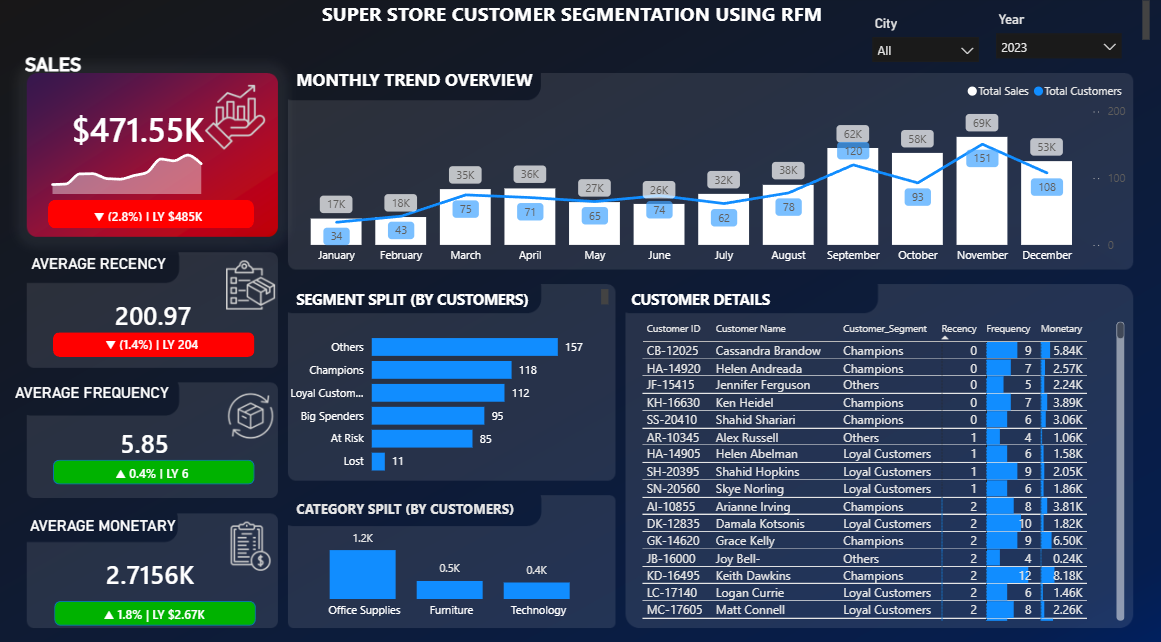

What the dashboard file says about the page in this screenshot:
{"tool":"powerbi","page":{"name":"Page 1","canvas":[1280,720],"ordinal":0},"visuals":[{"type":"shape","box":[60,510,221.4,27.1],"z":0},{"type":"shape","box":[60,370,221.4,27.1],"z":1000},{"type":"shape","box":[54.9,223.7,226.4,31.6],"z":2000},{"type":"textbox","box":[0,0,1270.7,54.9],"z":3000},{"type":"cardVisual","title":"SALES","fields":{"Data":["TBL_MEASURES.Total Sales"]},"box":[24.3,62.9,258.6,127.1],"z":4000},{"type":"cardVisual","title":"AVERAGE RECENCY","fields":{"Data":["TBL_MEASURES.AvgRecency"]},"box":[31.4,284.3,278.6,98.6],"z":5000},{"type":"cardVisual","title":"AVERAGE FREQUENCY","fields":{"Data":["TBL_MEASURES.AvgFrequency"]},"box":[14.3,425.7,295.7,97.1],"z":6000},{"type":"cardVisual","title":"AVERAGE MONETARY","fields":{"Data":["TBL_MEASURES.AvgMonetary"]},"box":[30,571.4,274.3,92.9],"z":7000},{"type":"cardVisual","fields":{"Data":["TBL_MEASURES.YoY SalesVariance"]},"box":[26.1,215.4,278.6,49.4],"z":8000},{"type":"slicer","fields":{"Values":["DateTable.Year"]},"box":[1086.8,12.3,157.8,72.7],"z":9000},{"type":"cardVisual","fields":{"Data":["TBL_MEASURES.YoY FrequencyVar"]},"box":[30,498.6,278.6,49.4],"z":10000},{"type":"cardVisual","fields":{"Data":["TBL_MEASURES.YoY RecencyVar"]},"box":[30,357.1,278.6,49.4],"z":11000},{"type":"shape","box":[61.4,664.3,221.4,27.1],"z":12000},{"type":"cardVisual","fields":{"Data":["TBL_MEASURES.YoY MonetaryVar"]},"box":[34.3,651.4,275.7,54.3],"z":13000},{"type":"lineChart","fields":{"Category":["DateTable.Month Number"],"Y":["TBL_MEASURES.Total Sales"]},"box":[30,154.3,252.9,70],"z":14000},{"type":"lineStackedColumnComboChart","fields":{"Y":["TBL_MEASURES.Total Sales"],"Y2":["TBL_MEASURES.Total Customers"],"Category":["DateTable.Month Name"]},"box":[310,85.7,934.3,218.6],"z":14001},{"type":"textbox","box":[322.9,74.3,294.3,40],"z":14002},{"type":"clusteredBarChart","fields":{"Category":["RFM_Calculation.Customer_Segment"],"Y":["CountNonNull(RFM_Calculation.Customer ID)"]},"box":[304.3,352.9,371.4,184.3],"z":14003},{"type":"textbox","box":[322.9,317.1,352.9,35.7],"z":14004},{"type":"textbox","box":[322.9,548.6,260,35.7],"z":14005},{"type":"clusteredColumnChart","fields":{"Category":["Superstore 2025.Category"],"Y":["CountNonNull(Superstore 2025.Customer ID)"]},"box":[321.4,571.4,354.3,121.4],"z":14006},{"type":"tableEx","fields":{"Values":["RFM_Calculation.Customer ID","RFM_Calculation.Customer Name","RFM_Calculation.Customer_Segment","RFM_Calculation.Recency","RFM_Calculation.Frequency","RFM_Calculation.Monetary"]},"box":[702.5,352.5,541.2,338.8],"z":14007},{"type":"slicer","fields":{"Values":["Superstore 2025.City"]},"box":[950,17.1,137.1,57.1],"z":14008},{"type":"textbox","box":[691.4,317.1,282.9,35.7],"z":14009}]}

Visuals, with their boxes in screenshot pixels (x1, y1, x2, y2), scaled from the page's 1280x720 canvas onto the 1161x642 screenshot:
shape: region(54, 455, 255, 479)
shape: region(54, 330, 255, 354)
shape: region(50, 199, 255, 228)
textbox: region(0, 0, 1153, 49)
"SALES" cardVisual: region(22, 56, 257, 169)
"AVERAGE RECENCY" cardVisual: region(28, 254, 281, 341)
"AVERAGE FREQUENCY" cardVisual: region(13, 380, 281, 466)
"AVERAGE MONETARY" cardVisual: region(27, 509, 276, 592)
cardVisual - TBL_MEASURES.YoY SalesVariance: region(24, 192, 276, 236)
slicer - DateTable.Year: region(986, 11, 1129, 76)
cardVisual - TBL_MEASURES.YoY FrequencyVar: region(27, 445, 280, 489)
cardVisual - TBL_MEASURES.YoY RecencyVar: region(27, 318, 280, 362)
shape: region(56, 592, 257, 616)
cardVisual - TBL_MEASURES.YoY MonetaryVar: region(31, 581, 281, 629)
lineChart - DateTable.Month Number x TBL_MEASURES.Total Sales: region(27, 138, 257, 200)
lineStackedColumnComboChart - TBL_MEASURES.Total Sales x TBL_MEASURES.Total Customers: region(281, 76, 1129, 271)
textbox: region(293, 66, 560, 102)
clusteredBarChart - RFM_Calculation.Customer_Segment x CountNonNull(RFM_Calculation.Customer ID): region(276, 315, 613, 479)
textbox: region(293, 283, 613, 315)
textbox: region(293, 489, 529, 521)
clusteredColumnChart - Superstore 2025.Category x CountNonNull(Superstore 2025.Customer ID): region(292, 509, 613, 618)
tableEx - RFM_Calculation.Customer ID x RFM_Calculation.Customer Name: region(637, 314, 1128, 616)
slicer - Superstore 2025.City: region(862, 15, 986, 66)
textbox: region(627, 283, 884, 315)
